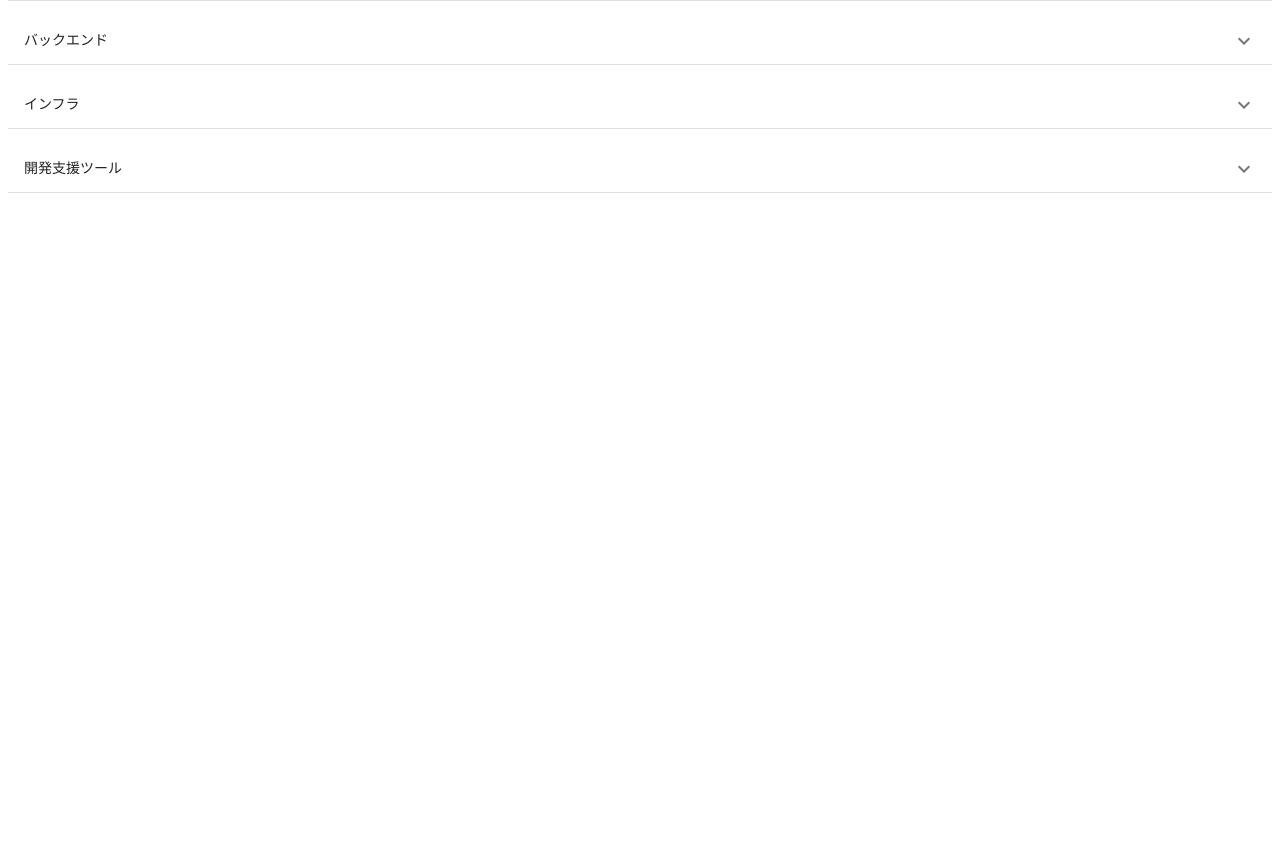
Test case: TechStackFieldList › 開発支援ツール を開くと、そのカテゴリの入力欄を表示すること
Click the button "開発支援ツール" at (73, 168), box [8,145,1272,193]
(page scrolled)
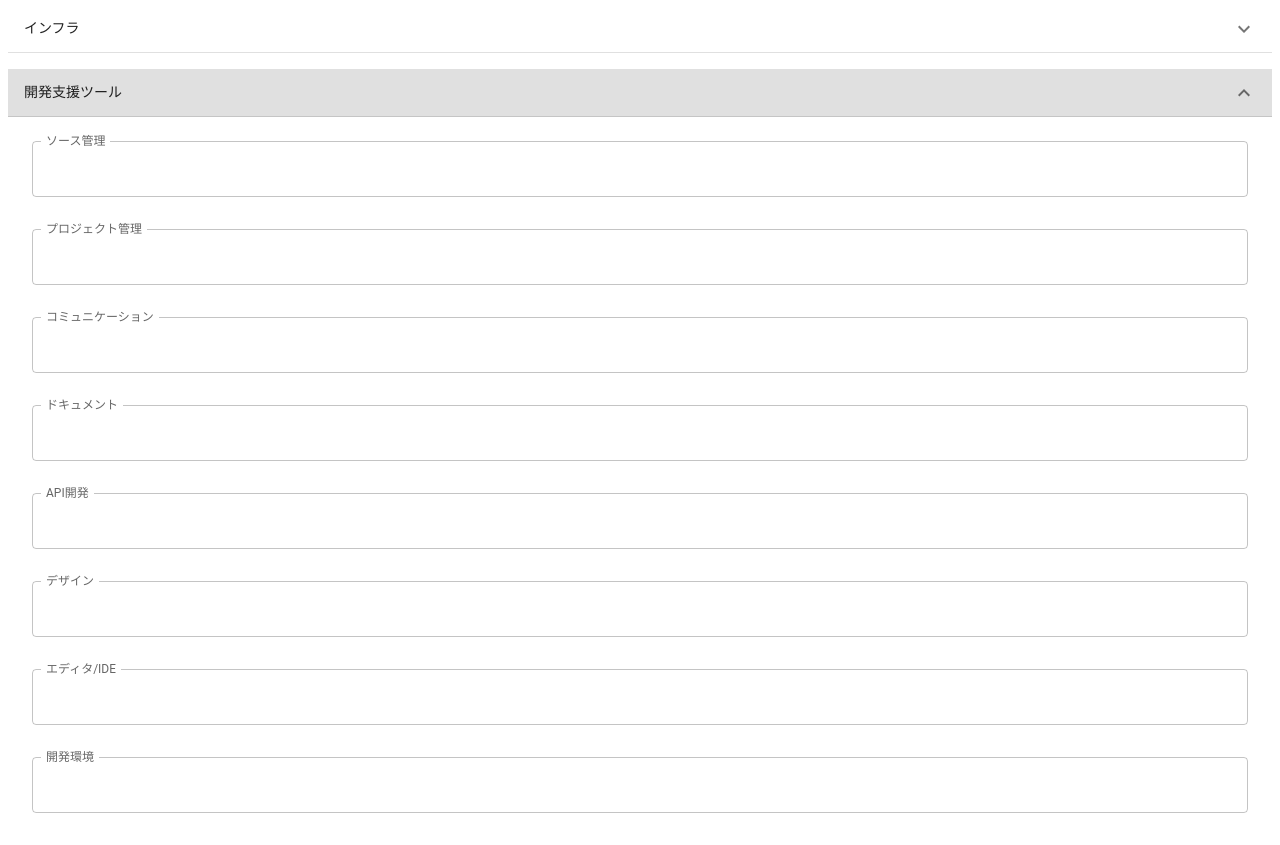
expect the button "開発支援ツール" is expanded: met, box [8,69,1272,117]
expect the number of dropdowns is 8: met
